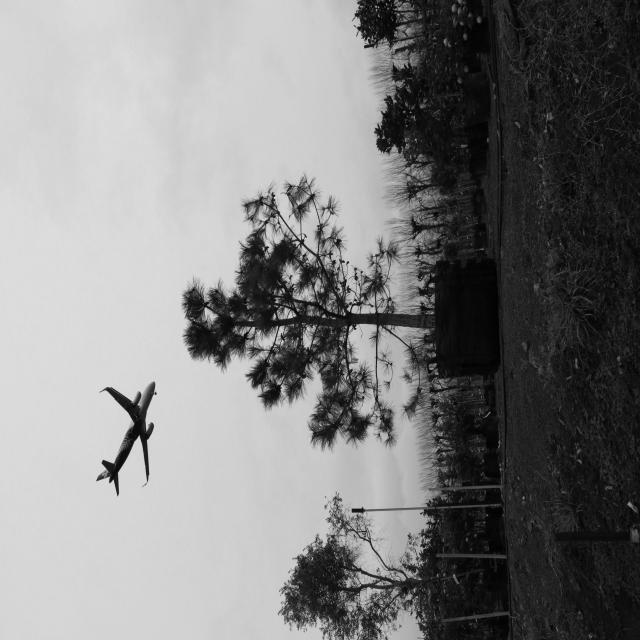Pinus Thunbergii: (185, 200, 414, 445)
